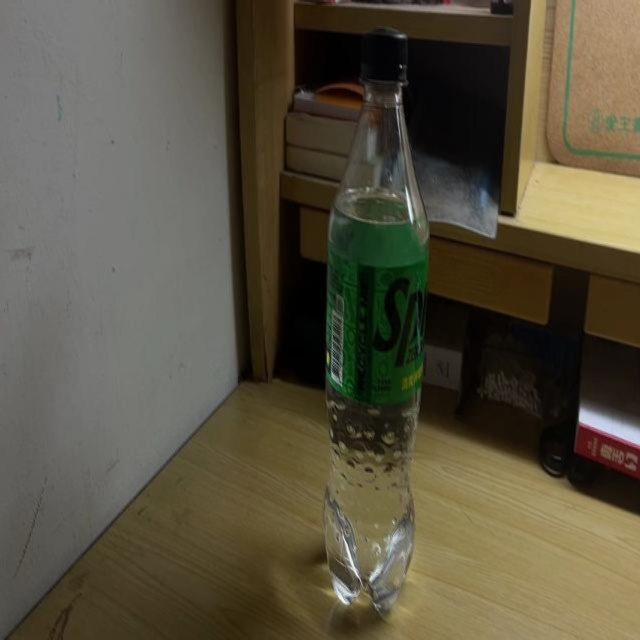Sprite: (320, 27, 429, 618)
